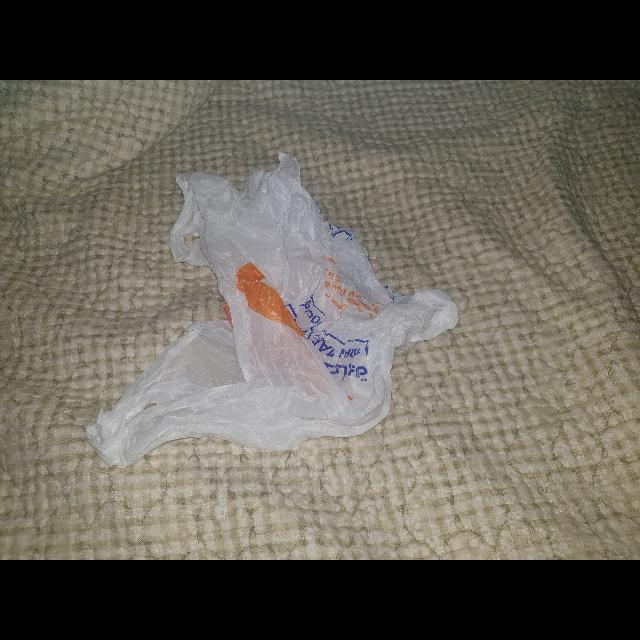plastic_bag: (75, 144, 468, 470)
